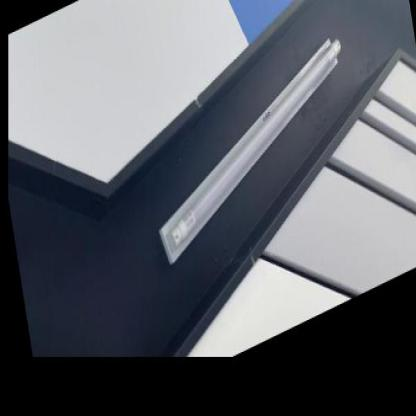light_off: (132, 11, 369, 284)
